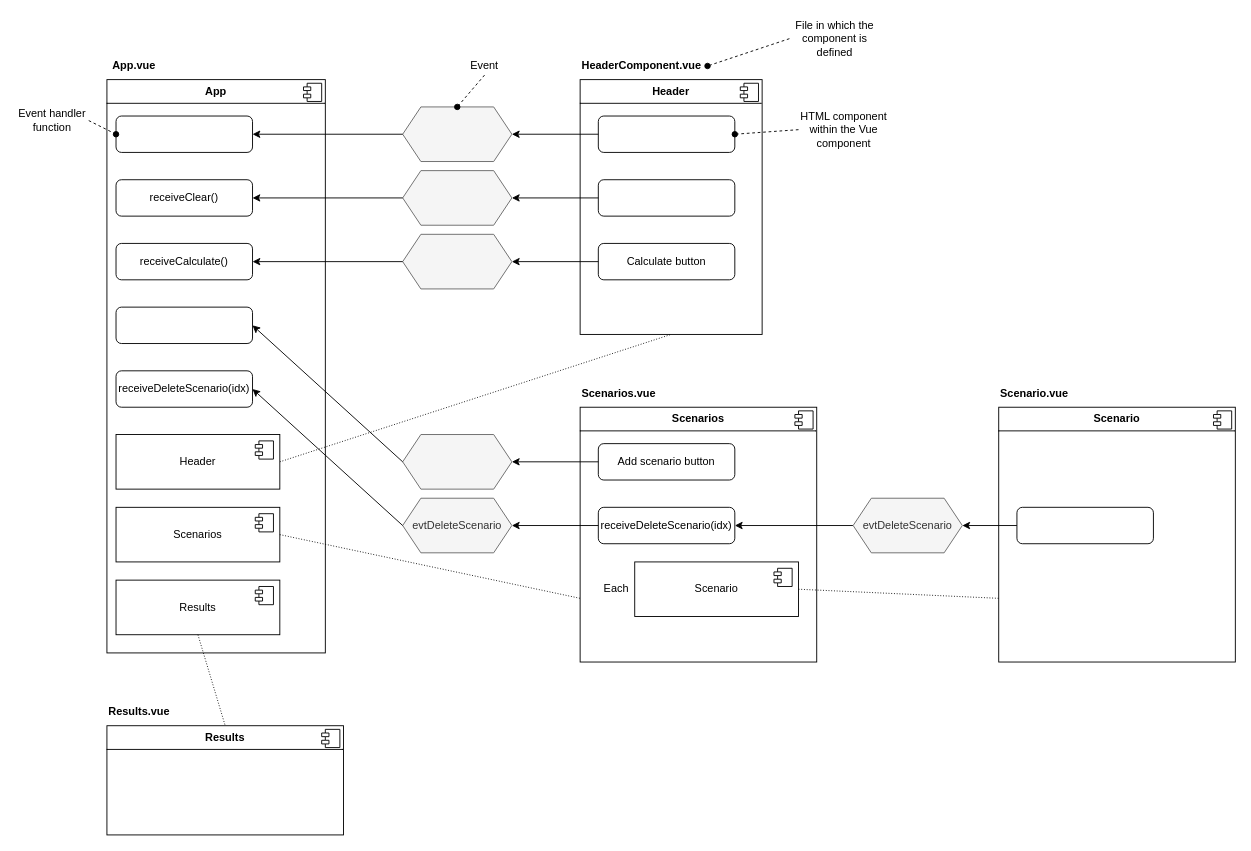
Some shapes in this 1251 by 851 pixel diagram are drawn without their labels. The centre of each missing label's shape, as x and y in pixels:
"Clear button" belongs at point (666, 197).
"Delete scenario button" belongs at point (1084, 525).
"evtAddScenario" belongs at point (457, 461).
"evtCalculate" belongs at point (457, 261).
"evtClear" belongs at point (457, 197).
"evtLoadExample" belongs at point (457, 134).
"Example button" belongs at point (666, 133).
"receiveAddScenario()" belongs at point (184, 325).
"receiveLoadExample()" belongs at point (184, 133).
